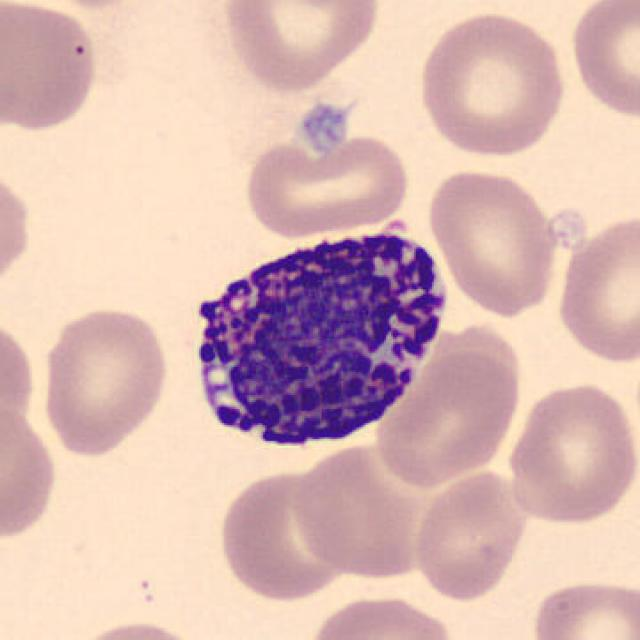Basophil: (178, 213, 455, 468)
Platelets: (295, 100, 352, 154)
RBC: (414, 7, 571, 160), (370, 338, 524, 488), (423, 164, 560, 319), (38, 302, 172, 458), (238, 124, 414, 242), (213, 464, 359, 604), (503, 377, 638, 527), (409, 465, 531, 605), (218, 0, 385, 93), (553, 208, 640, 369), (0, 0, 101, 136), (0, 396, 60, 546), (566, 0, 638, 122), (300, 590, 462, 640), (526, 575, 638, 640), (0, 309, 39, 439), (0, 164, 34, 298), (64, 615, 208, 640), (14, 0, 156, 12)
